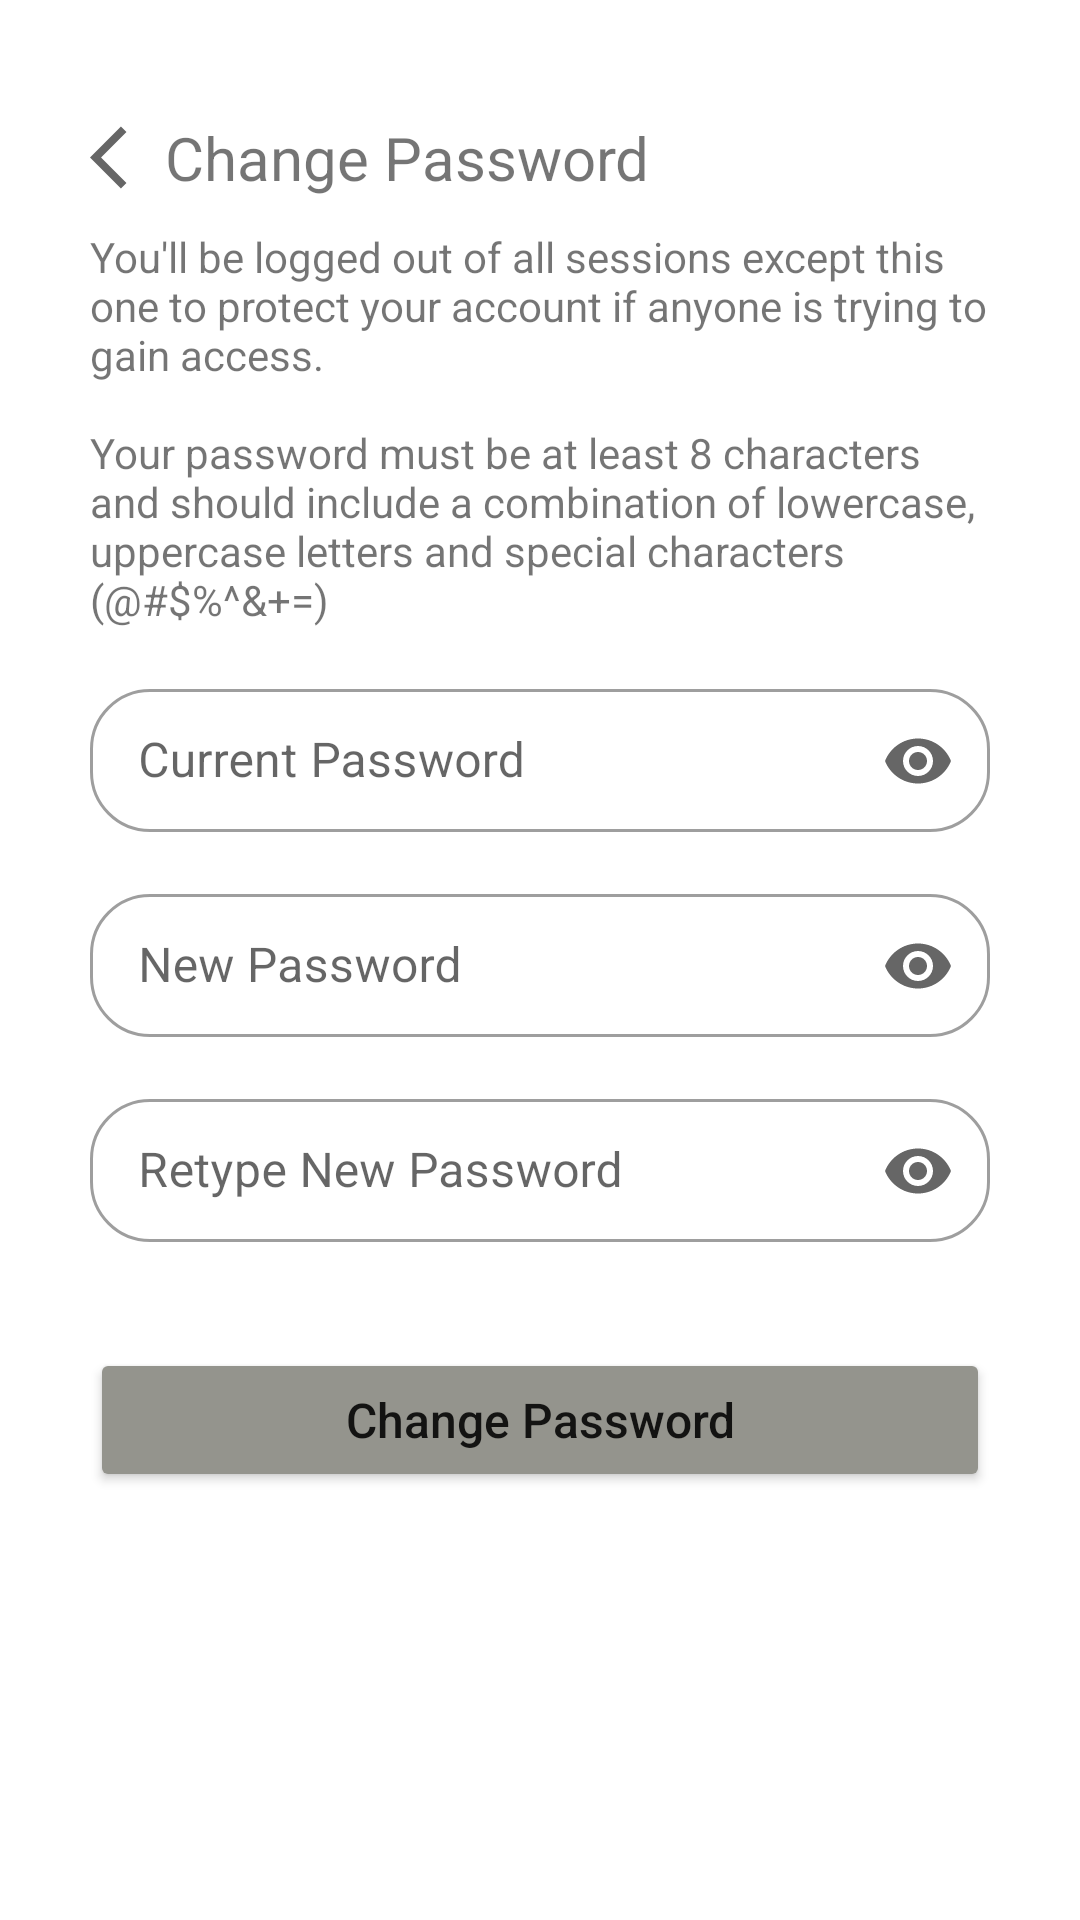

Icons on this 1080×1920 Android screen, each with its box as (x1, y1, x2, y2):
back arrow: (90, 127, 126, 189)
